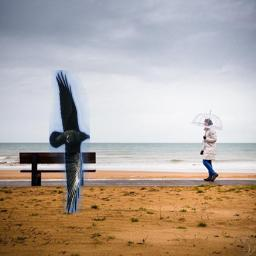Crow: (49, 70, 90, 213)
